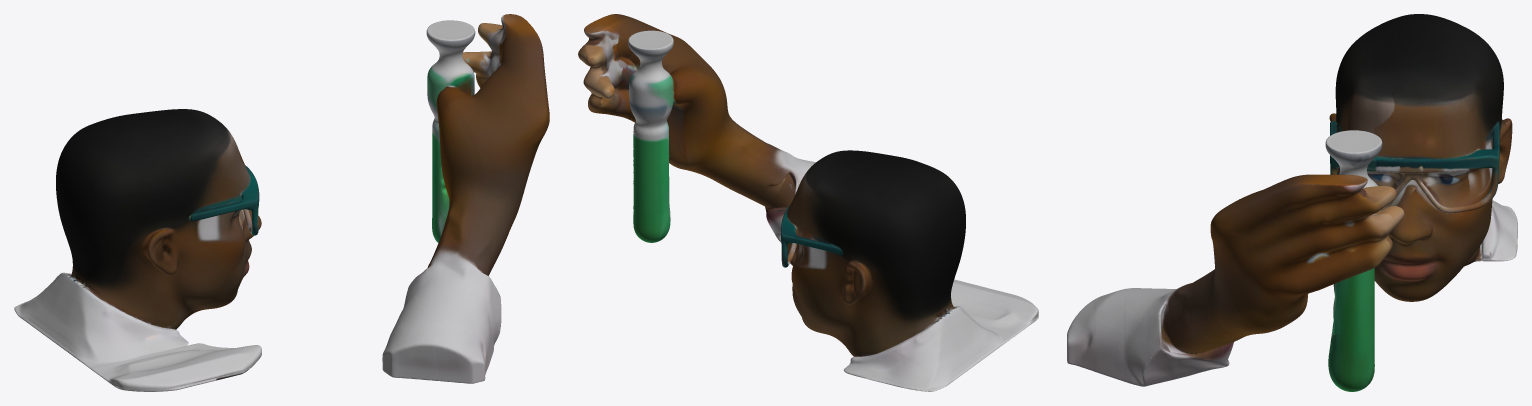
Rendered from meme scientist.fbx.
3 renders of one model, left to right at view 1: azimuth 30°, elevation 25°; view 2: azimuth 150°, elevation 25°; view 3: azimuth 270°, elevation 25°, orthographic. The views are drawn at different scales.
Visible parts, largest first — view 1: tripo_node_1ef7874b-1a37-4197-8ea9-a27ceca8c37a; view 2: tripo_node_1ef7874b-1a37-4197-8ea9-a27ceca8c37a; view 3: tripo_node_1ef7874b-1a37-4197-8ea9-a27ceca8c37a.
Boxes of the visible parts, x1,y1,x2,y2 form: tripo_node_1ef7874b-1a37-4197-8ea9-a27ceca8c37a: [14, 14, 549, 391]; tripo_node_1ef7874b-1a37-4197-8ea9-a27ceca8c37a: [578, 14, 1038, 391]; tripo_node_1ef7874b-1a37-4197-8ea9-a27ceca8c37a: [1067, 14, 1517, 391].
Bounding box in the file's own units: 100 × 51.03 × 76.18.
1 material, 1 textured.
